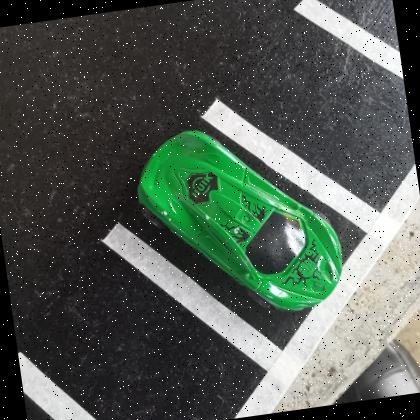Car: (137, 131, 344, 313)
